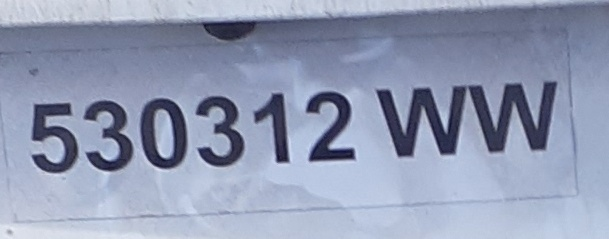0: (137, 90, 189, 177)
1: (249, 84, 297, 170)
2: (299, 86, 360, 164)
3: (190, 87, 248, 172), (82, 92, 135, 180)
5: (28, 98, 83, 179)
w: (468, 75, 565, 158), (373, 82, 468, 161)
